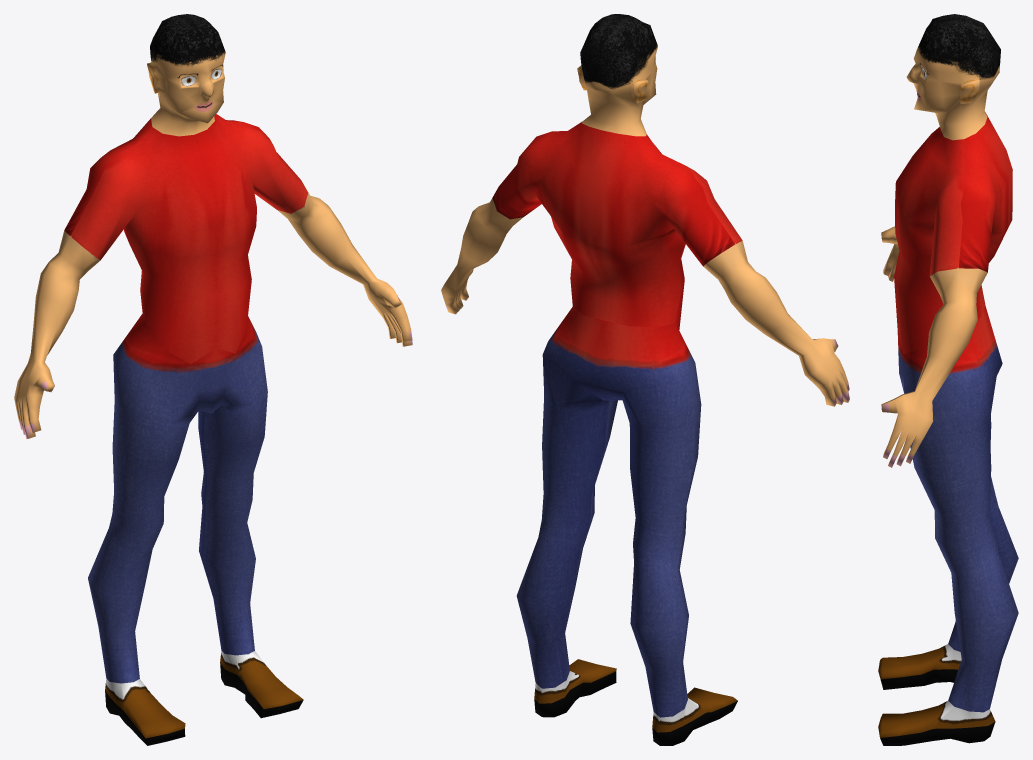
Rendered from Customer1FINISHED.FBX.
3 renders of one model, left to right at view 1: azimuth 30°, elevation 25°; view 2: azimuth 150°, elevation 25°; view 3: azimuth 270°, elevation 25°, orthographic. The views are drawn at different scales.
Visible parts, largest first — view 1: Torso; view 2: Torso; view 3: Torso.
Part boxes in pixels (box(x1,y1,x2,y2)): Torso: box(14, 14, 412, 745); Torso: box(441, 14, 849, 745); Torso: box(878, 14, 1018, 745).
Size of the model in its own units: 170 by 288 by 52.94.
Materials: 1 (1 with a texture image).
